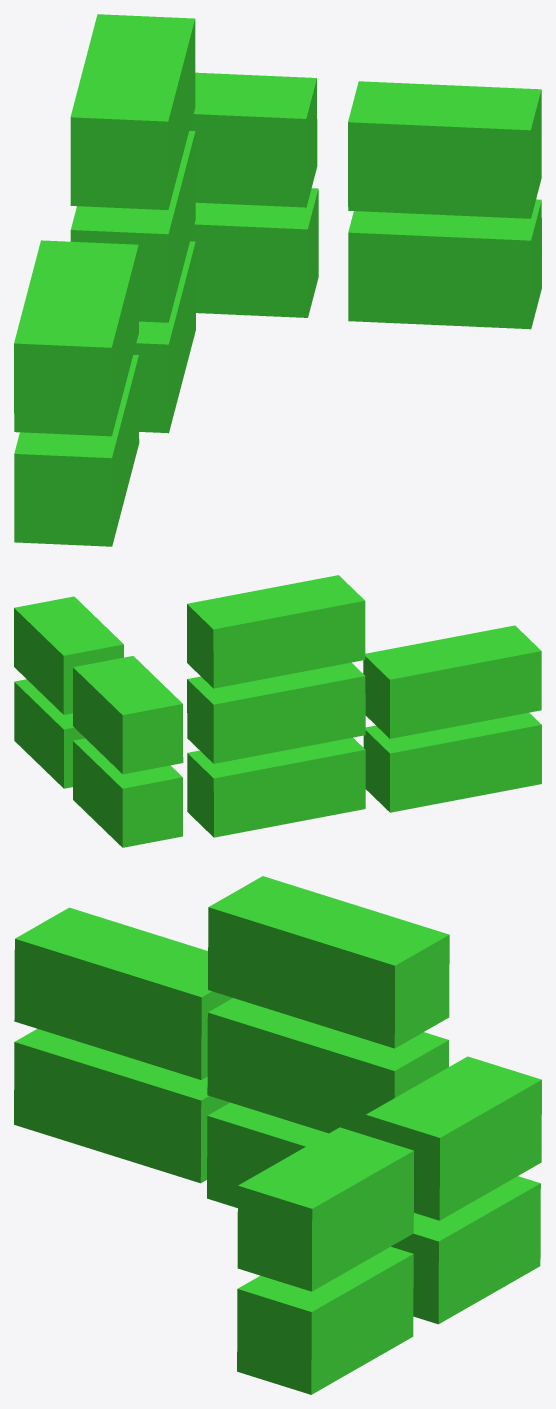
3 views of the same model, one above another, from view 1: azimuth 30°, elevation 25°; view 2: azimuth 150°, elevation 25°; view 3: azimuth 270°, elevation 25° (orthographic). The views are drawn at different scales.
Parts seen in each view (by area): view 1: POI_4, POI_8, POI_3, POI_7, POI_5, POI_0, POI_2, POI_6, POI_1; view 2: POI_8, POI_7, POI_6, POI_1, POI_0, POI_5, POI_2, POI_4, POI_3; view 3: POI_8, POI_7, POI_4, POI_6, POI_0, POI_5, POI_3, POI_2, POI_1.
Boxes of the visible parts, x1,y1,x2,y2 form: POI_4: (348,81,541,218); POI_8: (70,14,195,209); POI_3: (348,199,541,329); POI_7: (14,240,138,436); POI_5: (189,72,317,207); POI_0: (14,355,139,546); POI_2: (190,188,318,317); POI_6: (70,131,195,322); POI_1: (133,241,195,433); POI_8: (187,575,365,688); POI_7: (363,625,541,738); POI_6: (187,662,365,763); POI_1: (187,737,365,837); POI_0: (363,712,541,812); POI_5: (73,656,183,774); POI_2: (73,738,182,847); POI_4: (14,596,123,714); POI_3: (14,679,84,788); POI_8: (208,876,449,1048); POI_7: (14,907,232,1079); POI_4: (237,1127,413,1291); POI_6: (207,998,448,1135); POI_0: (14,1029,229,1183); POI_5: (365,1056,541,1220); POI_3: (237,1246,413,1394); POI_2: (391,1176,540,1324); POI_1: (207,1102,328,1207).
Bounding box in the file's own units: 0.3004 × 0.1364 × 0.2231.
